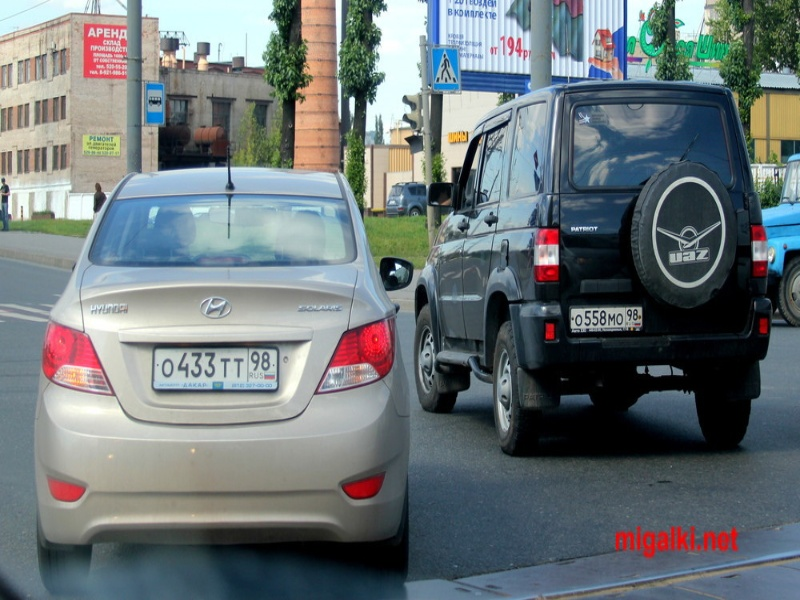car: (35, 166, 414, 585), (413, 82, 773, 454), (760, 153, 800, 327), (386, 182, 426, 215)
person: (1, 178, 10, 230), (93, 180, 106, 211)
plate: (153, 346, 279, 394), (571, 307, 642, 333)
